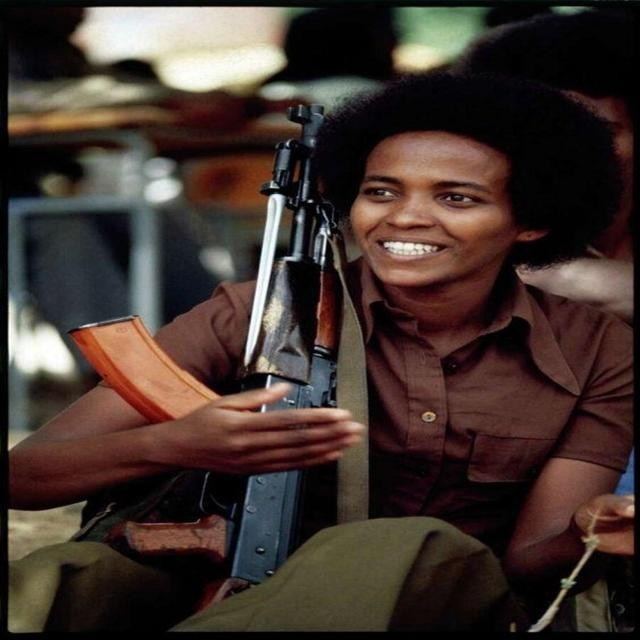ak: (44, 85, 410, 592)
